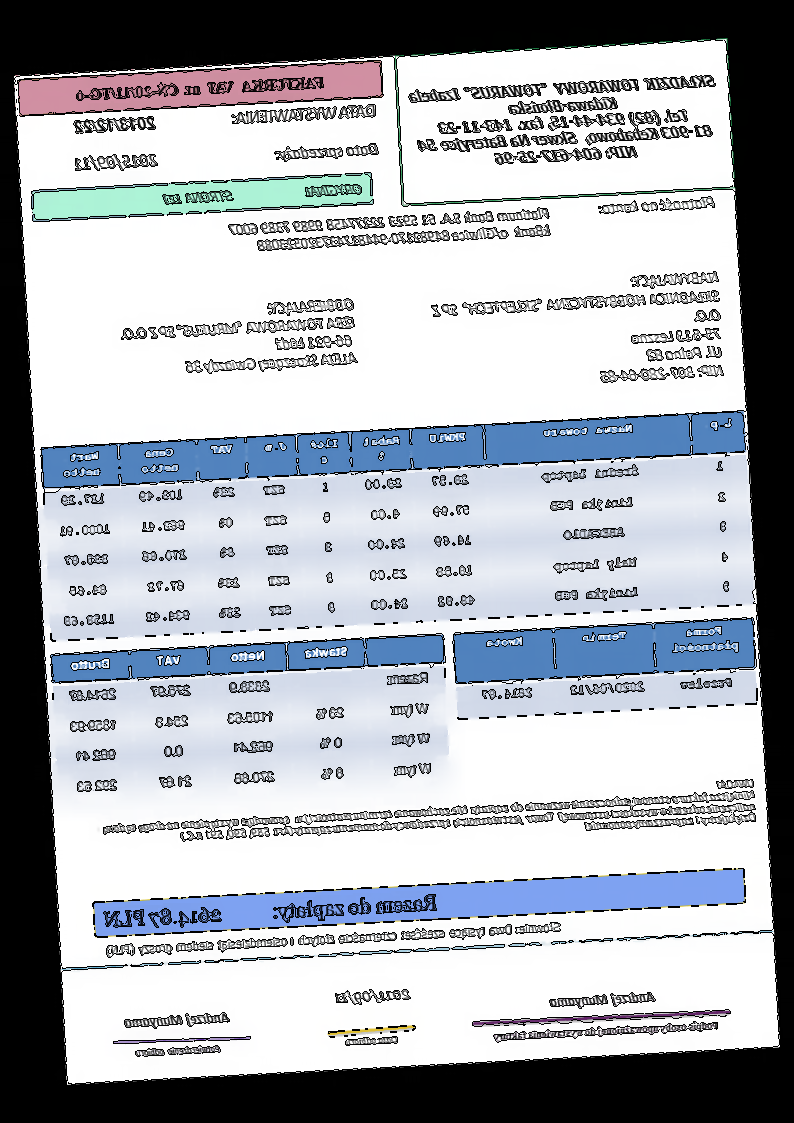Table: (39, 409, 756, 643), (48, 631, 454, 810), (451, 616, 760, 721)
TextBox: (91, 775, 759, 859), (426, 266, 727, 395), (404, 69, 722, 174), (104, 916, 564, 963), (118, 294, 360, 382), (226, 204, 554, 257), (101, 888, 440, 934), (75, 71, 329, 105), (160, 177, 365, 208), (492, 1018, 722, 1044), (232, 98, 380, 129), (272, 137, 381, 165), (597, 192, 717, 217), (544, 988, 660, 1011), (122, 1010, 232, 1032), (72, 148, 161, 175), (72, 112, 159, 137), (333, 984, 415, 1007), (135, 1042, 224, 1060), (342, 1031, 402, 1051)
